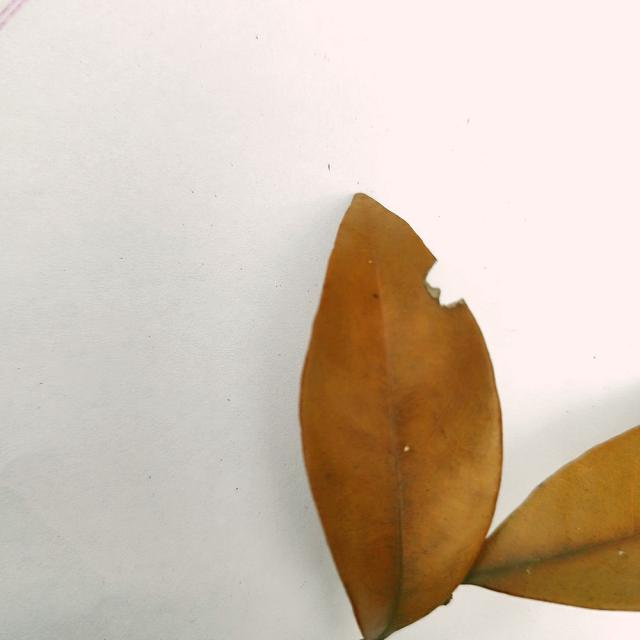Dry_Leaf-Lychee: (298, 194, 506, 639)
